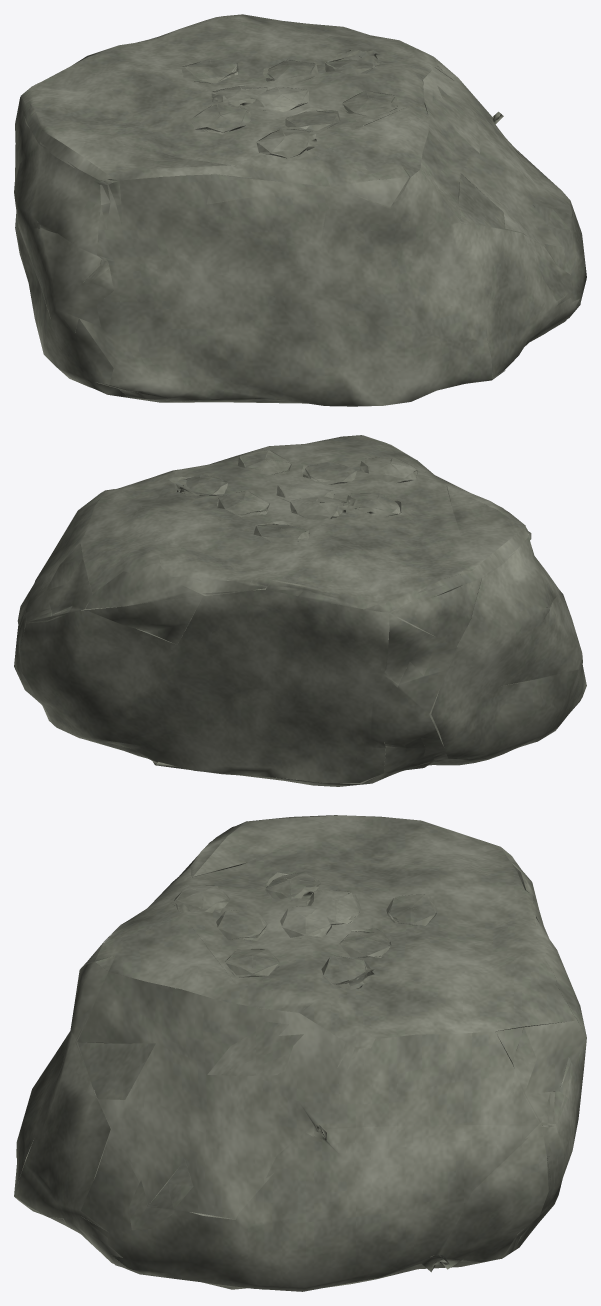
The model's file is rock.glb.
3 views of the same model, one above another, from view 1: azimuth 30°, elevation 25°; view 2: azimuth 150°, elevation 25°; view 3: azimuth 270°, elevation 25° (orthographic). The views are drawn at different scales.
Visible parts, largest first — view 1: rock_premium; view 2: rock_premium; view 3: rock_premium.
Part boxes in pixels (x1,y1,x2,y2): rock_premium: (14,14,586,406); rock_premium: (14,435,586,786); rock_premium: (14,815,586,1291).
Bounding box in the file's own units: 3.08 × 1.36 × 2.59.
Materials: 1 (1 with a texture image).
